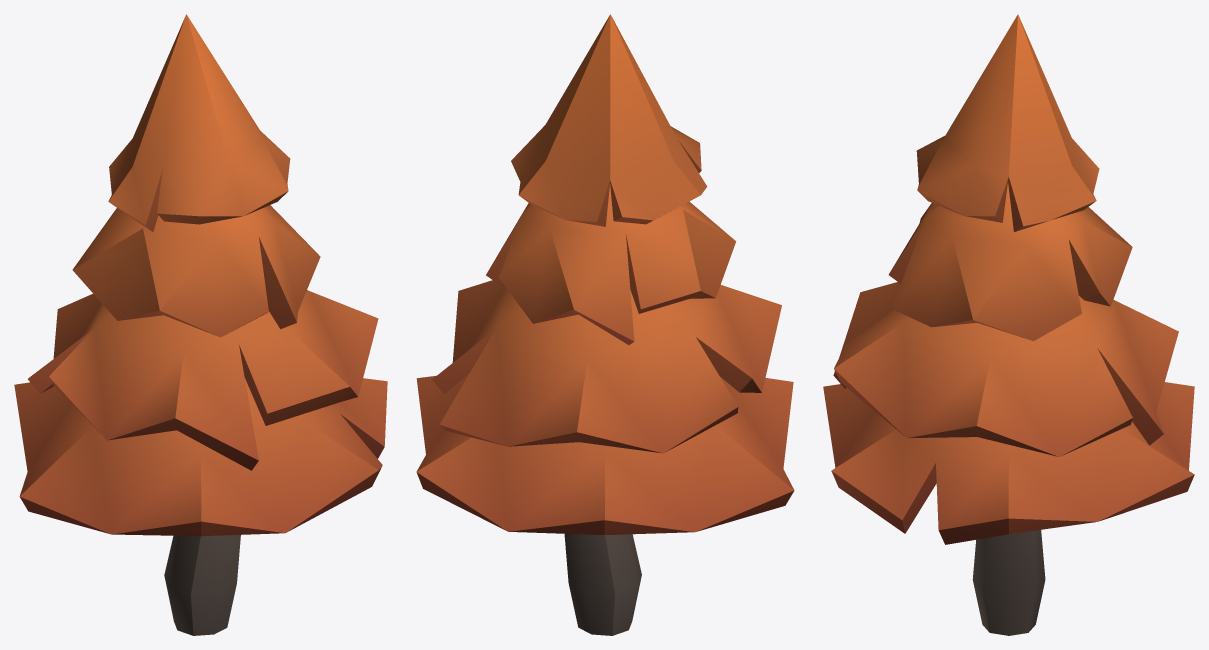
The model's file is tree_pine_orange_large.obj.
3 renders of one model, left to right at view 1: azimuth 30°, elevation 25°; view 2: azimuth 150°, elevation 25°; view 3: azimuth 270°, elevation 25°, orthographic.
Parts seen in each view (by area): view 1: tree_pine_orange_large_Cube.074; view 2: tree_pine_orange_large_Cube.074; view 3: tree_pine_orange_large_Cube.074.
Boxes of the visible parts, x1,y1,x2,y2 form: tree_pine_orange_large_Cube.074: [14, 14, 387, 635]; tree_pine_orange_large_Cube.074: [416, 14, 794, 635]; tree_pine_orange_large_Cube.074: [823, 14, 1194, 635].
Bounding box in the file's own units: 4.76 × 7.48 × 4.15.
Materials: 1 (1 with a texture image).
